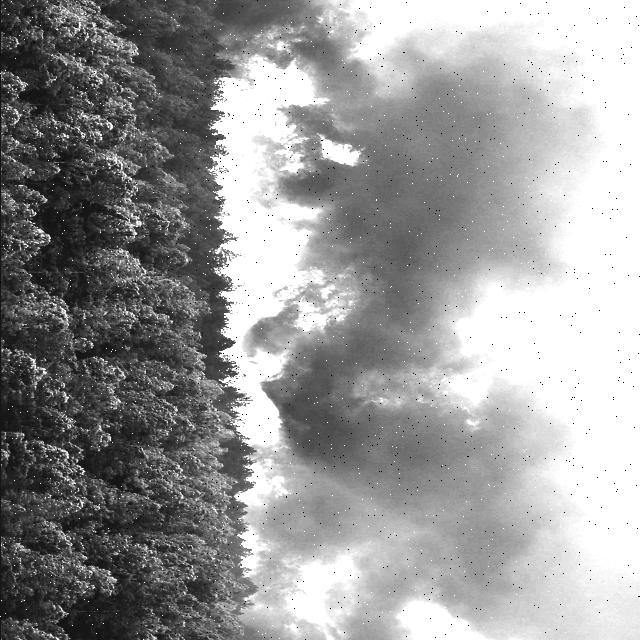api: (231, 54, 335, 632), (355, 364, 503, 426), (208, 31, 300, 65)
asap: (342, 6, 640, 640), (286, 351, 362, 481)
